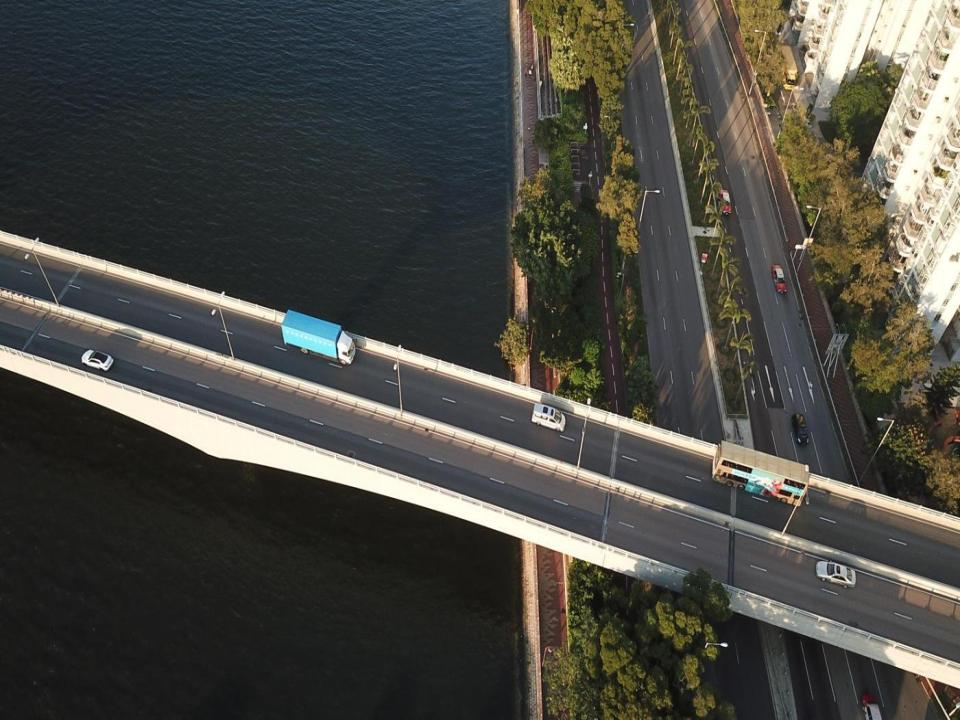bus: (711, 440, 810, 509), (862, 695, 881, 719)
car: (815, 558, 857, 591), (531, 401, 566, 430), (82, 348, 114, 371), (792, 412, 809, 446), (770, 264, 786, 294), (718, 188, 732, 217)
truck: (281, 309, 358, 364)
van: (774, 43, 798, 90)
